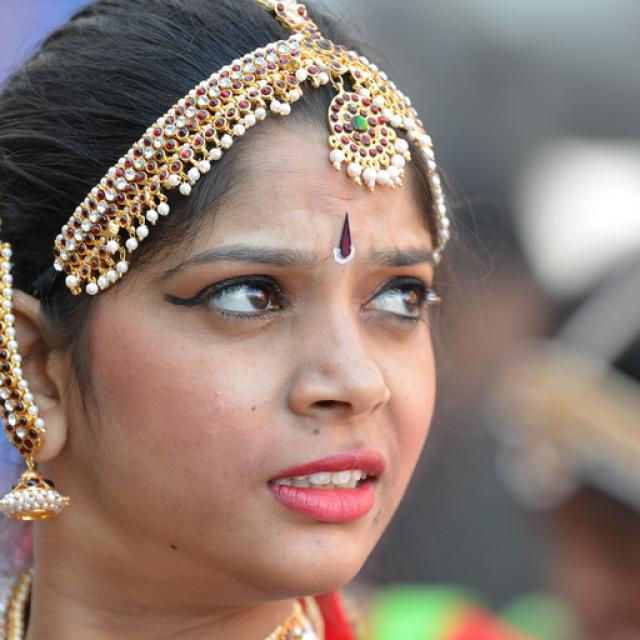disgust: (90, 127, 442, 595)
